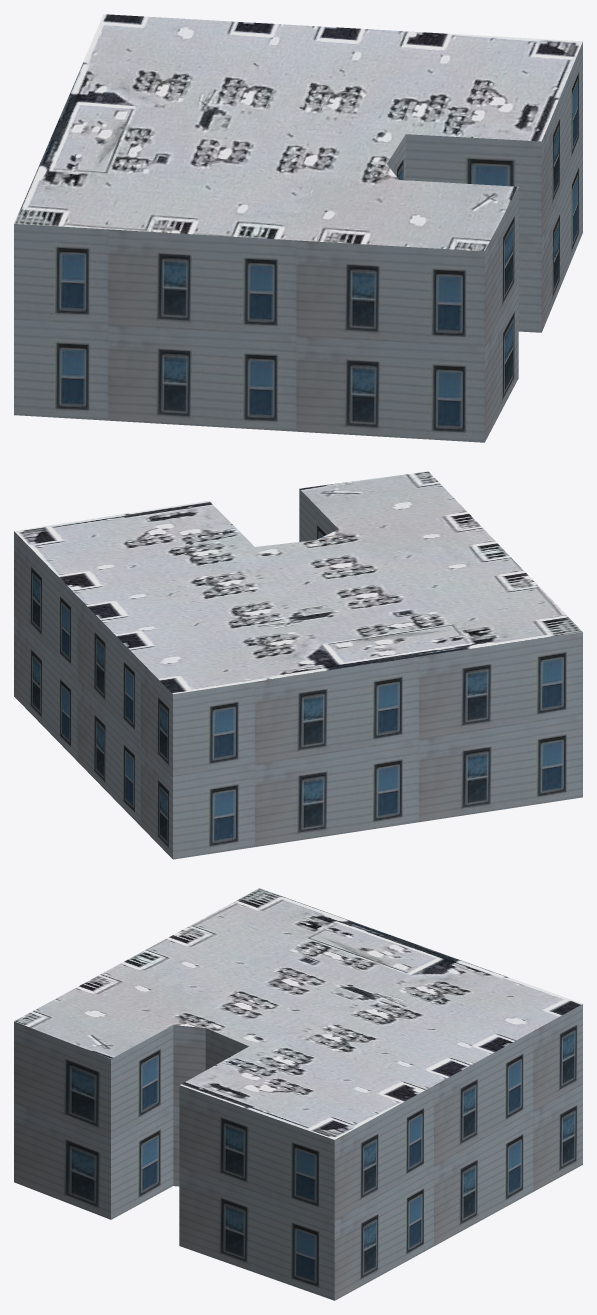
The model's file is ResTex__5230.fbx.
The picture shows the model from 3 angles, top to bottom: view 1: azimuth 30°, elevation 25°; view 2: azimuth 150°, elevation 25°; view 3: azimuth 270°, elevation 25°; orthographic projection. The views are drawn at different scales.
Parts seen in each view (by area): view 1: CityEngineMaterial_18_m, CityEngineMaterial_8_m; view 2: CityEngineMaterial_18_m, CityEngineMaterial_8_m; view 3: CityEngineMaterial_18_m, CityEngineMaterial_8_m.
Part boxes in pixels (x1,y1,x2,y2): CityEngineMaterial_18_m: (14,42,582,442); CityEngineMaterial_8_m: (14,14,582,251); CityEngineMaterial_18_m: (14,489,582,859); CityEngineMaterial_8_m: (14,471,582,694); CityEngineMaterial_18_m: (14,1004,582,1300); CityEngineMaterial_8_m: (14,888,582,1139).
Bounding box in the file's own units: 20.15 × 6 × 19.23.
2 materials, 2 textured.
